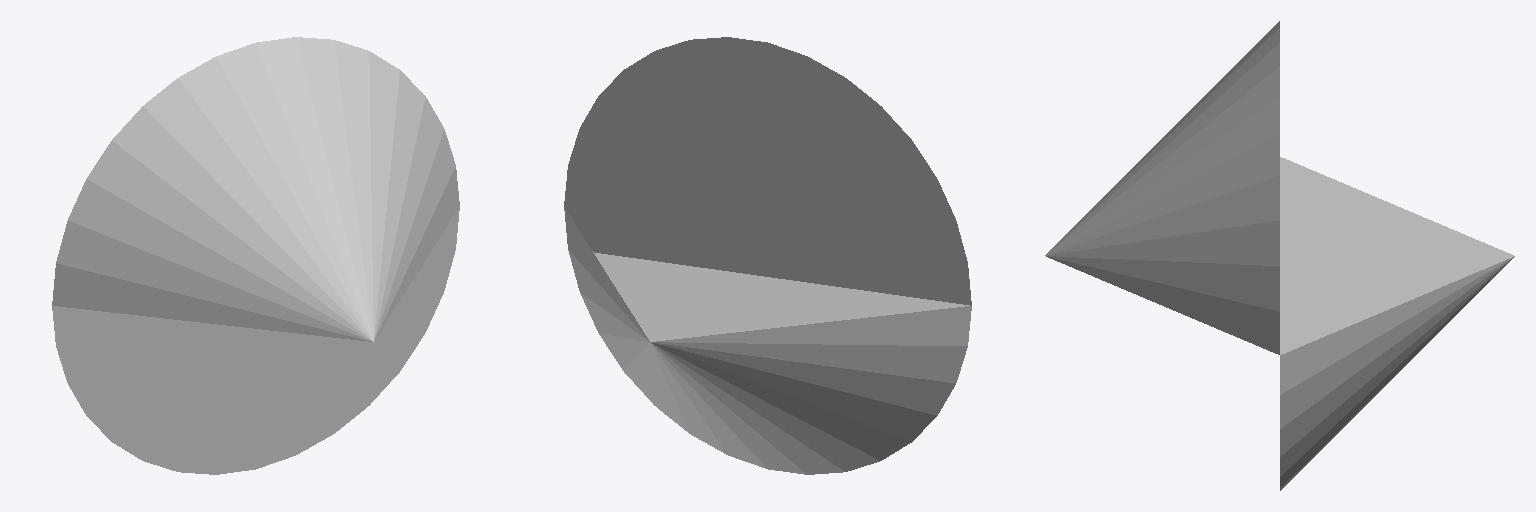
File: sun.obj
The picture shows the model from 3 angles: view 1: azimuth 30°, elevation 25°; view 2: azimuth 150°, elevation 25°; view 3: azimuth 270°, elevation 25°; orthographic projection.
Parts seen in each view (by area): view 1: sun; view 2: sun; view 3: sun.
Part boxes in pixels (left/top/right/bottom): sun: left=52, top=37, right=459, bottom=474; sun: left=564, top=37, right=971, bottom=474; sun: left=1045, top=21, right=1514, bottom=490.
Bounding box in the file's own units: 2 × 2 × 2.